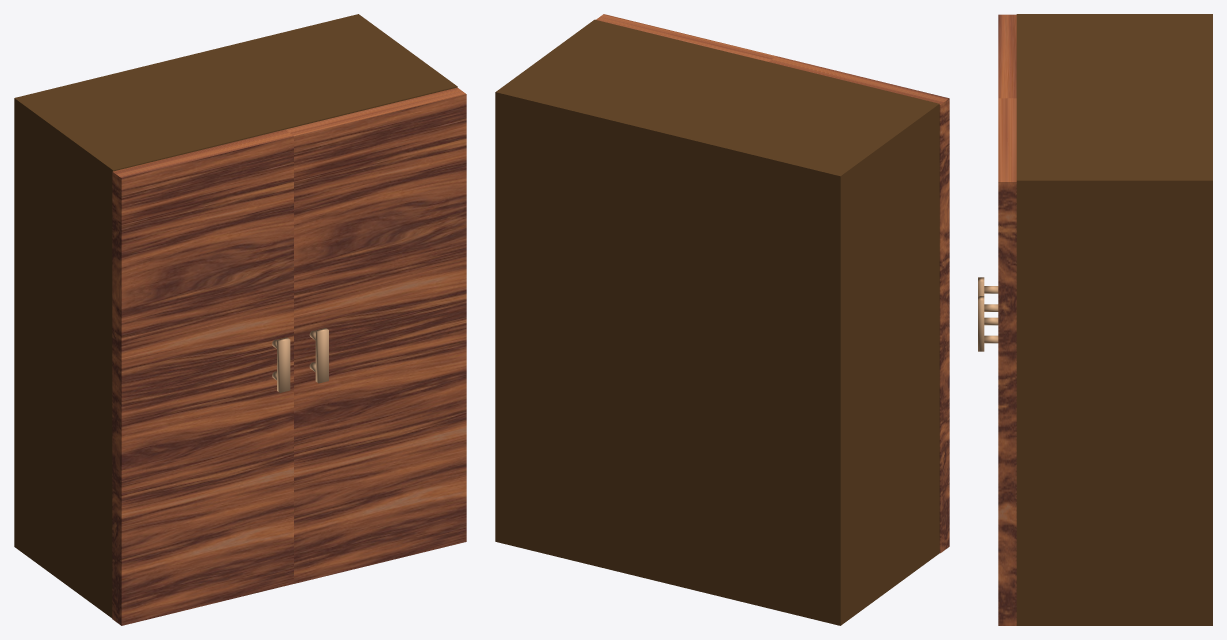
The model's file is VendingMachine.glb.
The picture shows the model from 3 angles, left to right: view 1: azimuth 30°, elevation 25°; view 2: azimuth 150°, elevation 25°; view 3: azimuth 270°, elevation 25°; orthographic projection.
Parts seen in each view (by area): view 1: LeftGate, RightGate, Almirah; view 2: Almirah, LeftGate, RightGate; view 3: Almirah, RightGate, LeftGate.
Part boxes in pixels (x1,y1,x2,y2): LeftGate: [112, 129, 293, 625]; RightGate: [285, 87, 466, 583]; Almirah: [14, 14, 457, 618]; Almirah: [495, 19, 939, 625]; LeftGate: [769, 56, 949, 553]; RightGate: [596, 14, 775, 61]; Almirah: [1016, 14, 1212, 625]; RightGate: [978, 98, 1016, 625]; LeftGate: [978, 14, 1016, 325].
Size of the model in its own units: 87.1 by 108 by 51.73.
Materials: 4 (2 with a texture image).
